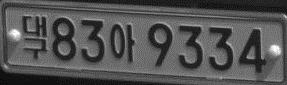3: (178, 24, 204, 69), (208, 26, 233, 71), (81, 19, 105, 62)
4: (238, 28, 266, 72)
8: (51, 17, 76, 60)
9: (147, 22, 172, 67)
대구_V: (22, 14, 48, 59)
아: (110, 23, 135, 62)
